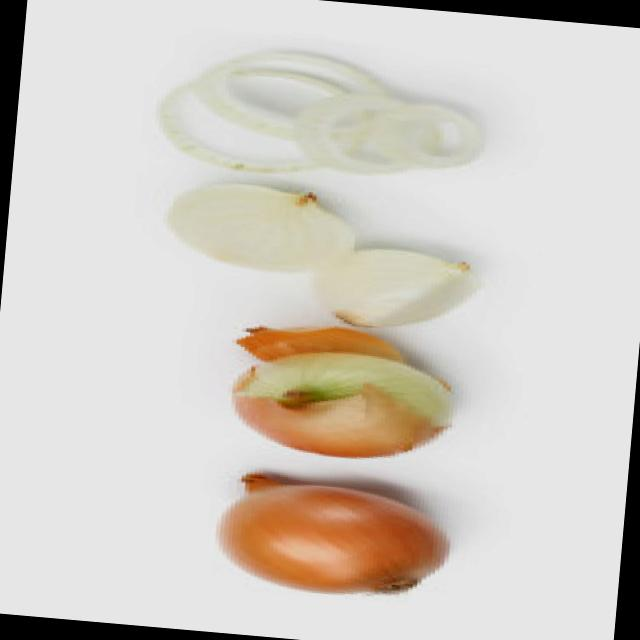onion: (136, 33, 516, 198), (182, 467, 478, 622), (196, 318, 484, 473), (187, 188, 486, 330)
